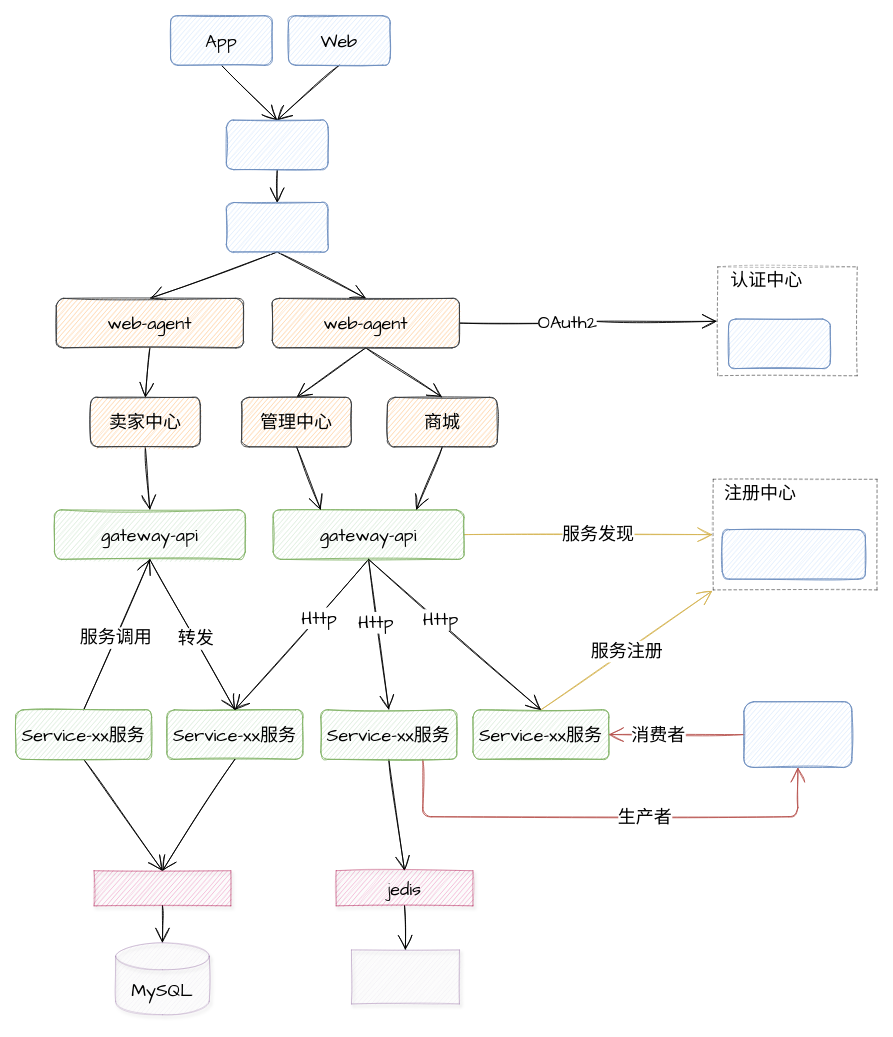
The diagram is 893 pixels wide and 1037 high, and some of its shapes have lost their labels. The centre of each missing label's shape, as x and y in pixels:
"ELB" belongs at [276,144].
"kube-apiserver" belongs at [793,554].
"OpenResty" belongs at [276,227].
"passport" belongs at [779,343].
"Redis" belongs at [406,977].
"sharding-jdbc" belongs at [163,889].
"消息服务 Kafka" belongs at [797,734].
